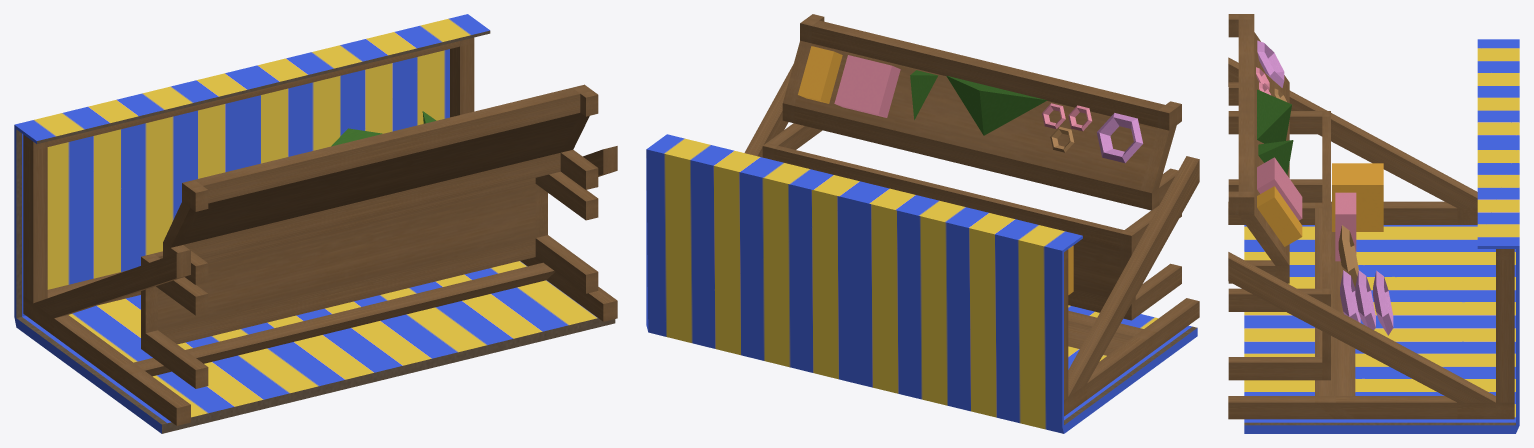
Rendered from all_share_store_3.FBX.
3 renders of one model, left to right at view 1: azimuth 30°, elevation 25°; view 2: azimuth 150°, elevation 25°; view 3: azimuth 270°, elevation 25°, orthographic. The views are drawn at different scales.
Parts seen in each view (by area): view 1: Cube.031; view 2: Cube.031; view 3: Cube.031.
Part boxes in pixels (x1,y1,x2,y2): Cube.031: [14, 14, 617, 433]; Cube.031: [646, 14, 1199, 433]; Cube.031: [1228, 14, 1519, 433].
Bounding box in the file's own units: 252 × 128 × 150.
